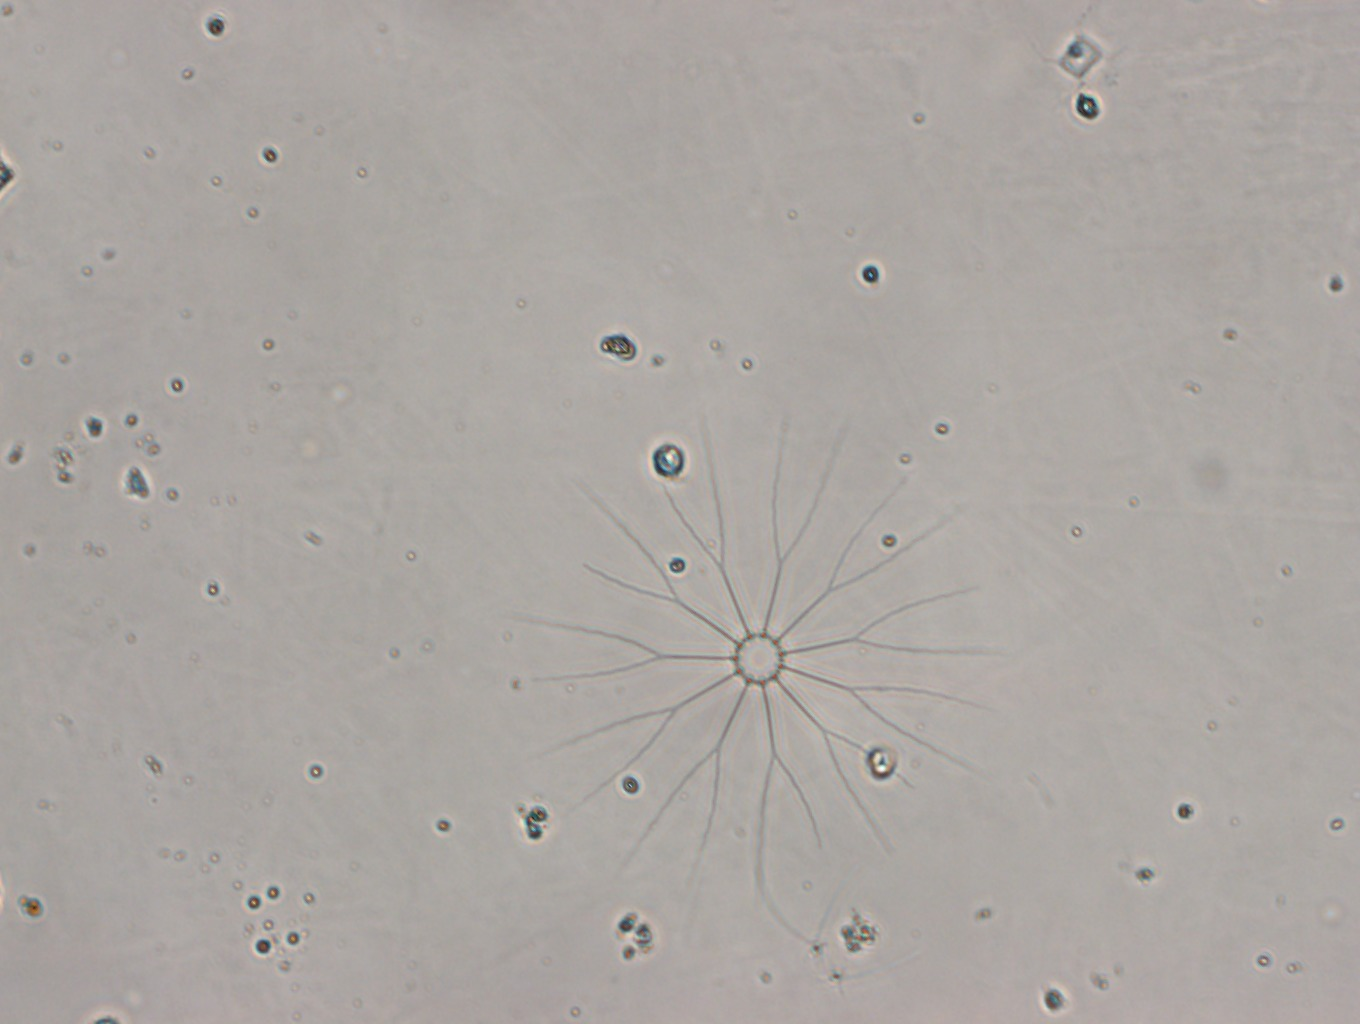bacteriastrum: (517, 414, 1015, 909)
